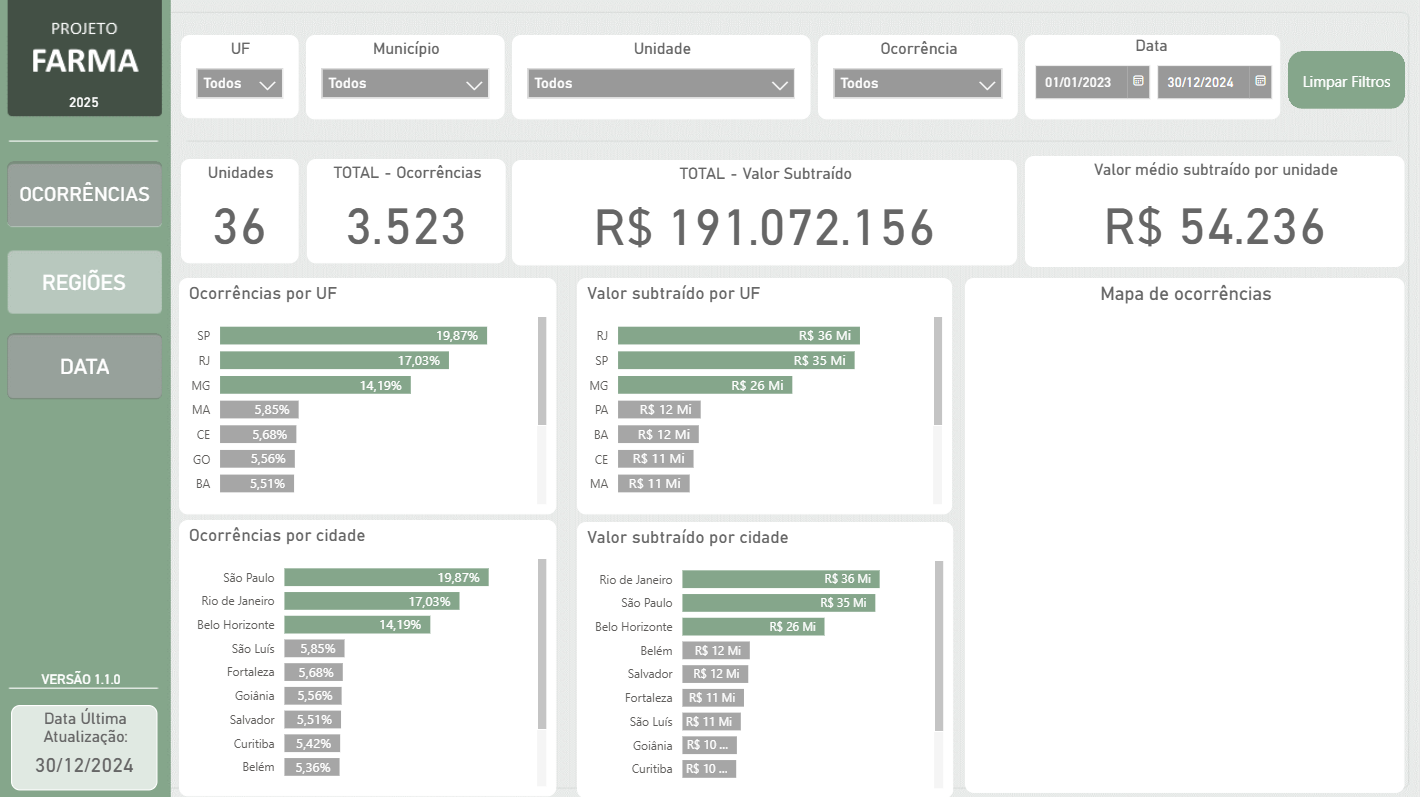

What the dashboard file says about the page in this screenshot:
{"tool":"powerbi","page":{"name":"Visualização por região","canvas":[1280,720],"ordinal":1},"visuals":[{"type":"barChart","title":"Ocorrências por cidade","fields":{"Y":["1medidas.totalOcorrencias"],"Category":["ocorrencias_farmacias csv.cidade"]},"box":[162.3,468.2,339.6,249.2],"z":0},{"type":"map","title":"Mapa de ocorrências","fields":{"Size":["1medidas.totalOcorrencias"],"Category":["Estados_Brasil.Estado"]},"box":[870.7,250.9,396.4,463.7],"z":1000},{"type":"barChart","title":"Valor subtraído por UF","fields":{"Y":["1medidas.valorSubtraido"],"Category":["ocorrencias_farmacias csv.UF"]},"box":[520.5,250.9,337.8,212.8],"z":2000},{"type":"barChart","title":"Ocorrências por UF","fields":{"Y":["1medidas.totalOcorrencias"],"Category":["ocorrencias_farmacias csv.UF"]},"box":[162.3,250.9,339.6,212.8],"z":3000},{"type":"barChart","title":"Valor subtraído por cidade","fields":{"Y":["1medidas.valorSubtraido"],"Category":["ocorrencias_farmacias csv.cidade"]},"box":[520.5,470.8,338.7,249.2],"z":4000},{"type":"shape","box":[7.1,145.4,140.1,59.4],"z":5000},{"type":"textbox","box":[6.2,237.6,140.1,46.1],"z":6000},{"type":"shape","box":[7.1,299.7,140.1,60.3],"z":7000},{"type":"card","title":"TOTAL - Ocorrências","fields":{"Values":["1medidas.totalOcorrencias"]},"box":[277.2,143.3,178.9,94.4],"z":8000},{"type":"card","title":"TOTAL - Valor Subtraído","fields":{"Values":["1medidas.valorSubtraido"]},"box":[462.5,143.8,455,95],"z":9000},{"type":"slicer","title":"Data","fields":{"Values":["ocorrencias_farmacias csv.data"]},"box":[925,31.5,230,75.6],"z":10000},{"type":"slicer","title":"Unidade","fields":{"Values":["ocorrencias_farmacias csv.unidade"]},"box":[462.7,31.5,269,75.6],"z":11000},{"type":"slicer","title":"Ocorrência","fields":{"Values":["ocorrencias_farmacias csv.ocorrencia"]},"box":[738.4,31.5,180,75.6],"z":12000},{"type":"slicer","title":"UF","fields":{"Values":["ocorrencias_farmacias csv.UF"]},"box":[164,31.9,105.5,75.4],"z":13000},{"type":"slicer","title":"Município","fields":{"Values":["ocorrencias_farmacias csv.cidade"]},"box":[277.1,31.5,179,75.6],"z":14000},{"type":"card","title":"Unidades","fields":{"Values":["Count(ocorrencias_farmacias csv.unidade)"]},"box":[164.4,143.3,105.6,94.4],"z":15000},{"type":"card","title":"Valor médio subtraído por unidade","fields":{"Values":["1medidas.valorMedioSubtraidoPorUnidade"]},"box":[924.8,141,342.3,100.2],"z":16000},{"type":"shape","box":[1161.6,46.1,105.5,52.3],"z":17000},{"type":"textbox","box":[2.5,77.5,147.5,30],"z":18000},{"type":"card","title":"Data Última Atualização:","fields":{"Values":["Max(ocorrencias_farmacias csv.data)"]},"box":[10.6,634.9,132.1,77.1],"z":19000},{"type":"textbox","box":[0,597.5,147.5,30],"z":20000}]}

Visuals, with their boxes in screenshot pixels (x1, y1, x2, y2), scaled from the page's 1280x720 canvas onto the 1420x797 screenshot:
"Ocorrências por cidade" barChart: (x1=180, y1=518, x2=557, y2=794)
"Mapa de ocorrências" map: (x1=966, y1=278, x2=1406, y2=791)
"Valor subtraído por UF" barChart: (x1=577, y1=278, x2=952, y2=513)
"Ocorrências por UF" barChart: (x1=180, y1=278, x2=557, y2=513)
"Valor subtraído por cidade" barChart: (x1=577, y1=521, x2=953, y2=796)
shape: (x1=8, y1=161, x2=163, y2=227)
textbox: (x1=7, y1=263, x2=162, y2=314)
shape: (x1=8, y1=332, x2=163, y2=398)
"TOTAL - Ocorrências" card: (x1=308, y1=159, x2=506, y2=263)
"TOTAL - Valor Subtraído" card: (x1=513, y1=159, x2=1018, y2=264)
"Data" slicer: (x1=1026, y1=35, x2=1281, y2=119)
"Unidade" slicer: (x1=513, y1=35, x2=812, y2=119)
"Ocorrência" slicer: (x1=819, y1=35, x2=1019, y2=119)
"UF" slicer: (x1=182, y1=35, x2=299, y2=119)
"Município" slicer: (x1=307, y1=35, x2=506, y2=119)
"Unidades" card: (x1=182, y1=159, x2=300, y2=263)
"Valor médio subtraído por unidade" card: (x1=1026, y1=156, x2=1406, y2=267)
shape: (x1=1289, y1=51, x2=1406, y2=109)
textbox: (x1=3, y1=86, x2=166, y2=119)
"Data Última Atualização:" card: (x1=12, y1=703, x2=158, y2=788)
textbox: (x1=0, y1=661, x2=164, y2=695)
